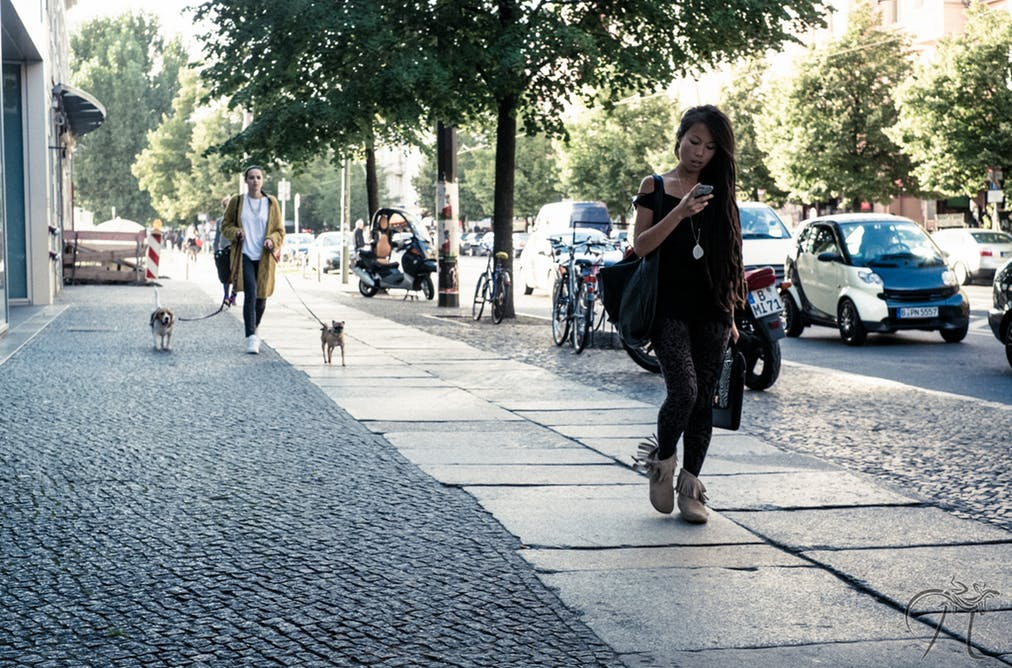pedestrian: (603, 99, 762, 528), (209, 161, 286, 360)
